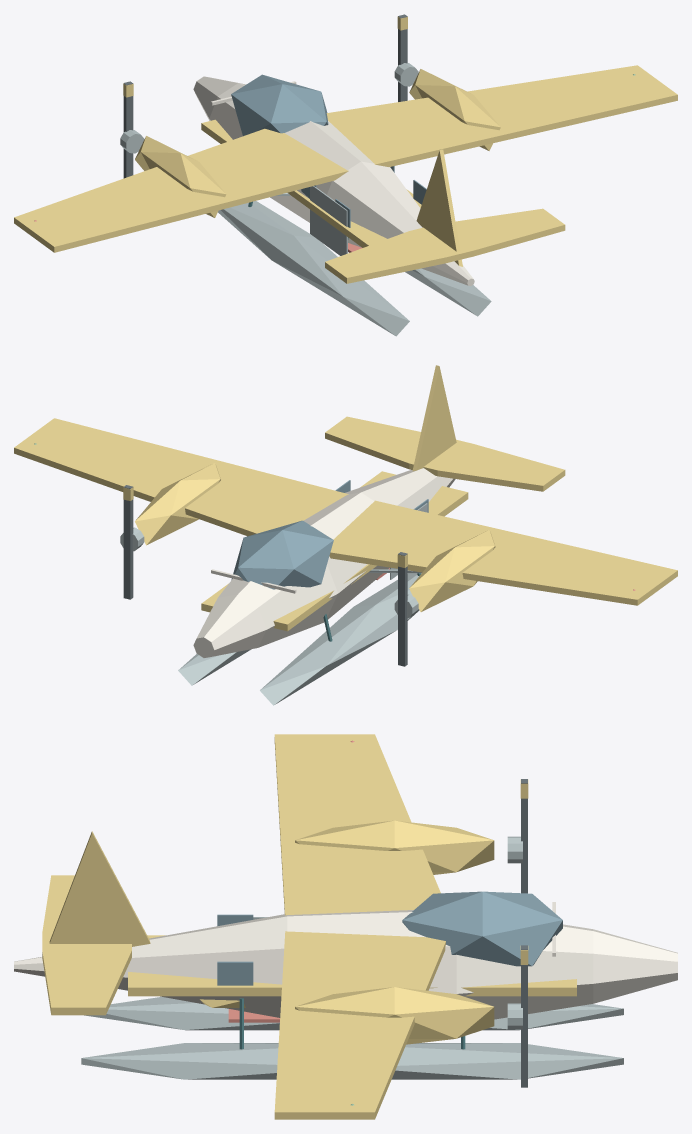
File: fire_waterbomber.glb
3 views of the same model, one above another, from view 1: azimuth 30°, elevation 25°; view 2: azimuth 150°, elevation 25°; view 3: azimuth 270°, elevation 25° (orthographic). The views are drawn at different scales.
Parts seen in each view (by area): view 1: fire_waterbomber__main_wings, fire_waterbomber__faceted_fuselage, fire_waterbomber__tailplane, fire_waterbomber__pontoon, fire_waterbomber__cockpit_canopy, fire_waterbomber__engine_nacelle, fire_waterbomber__engine_nacelle.001, fire_waterbomber__vertical_tail, fire_waterbomber__signature_stripe, fire_waterbomber__cargo_door, fire_waterbomber__pontoon.001, fire_waterbomber__Propeller_blades (+1 smaller); view 2: fire_waterbomber__main_wings, fire_waterbomber__faceted_fuselage, fire_waterbomber__tailplane, fire_waterbomber__pontoon, fire_waterbomber__cockpit_canopy, fire_waterbomber__engine_nacelle, fire_waterbomber__engine_nacelle.001, fire_waterbomber__vertical_tail, fire_waterbomber__signature_stripe, fire_waterbomber__Propeller_blades.001, fire_waterbomber__pontoon.001, fire_waterbomber__Propeller_blades; view 3: fire_waterbomber__main_wings, fire_waterbomber__faceted_fuselage, fire_waterbomber__pontoon.001, fire_waterbomber__cockpit_canopy, fire_waterbomber__tailplane, fire_waterbomber__engine_nacelle.001, fire_waterbomber__vertical_tail, fire_waterbomber__engine_nacelle, fire_waterbomber__pontoon, fire_waterbomber__signature_stripe, fire_waterbomber__cabin_window.001, fire_waterbomber__Propeller_blades.001 (+1 smaller).
Boxes of the visible parts, x1,y1,x2,y2 form: fire_waterbomber__main_wings: [14, 65, 677, 252]; fire_waterbomber__faceted_fuselage: [193, 76, 474, 285]; fire_waterbomber__tailplane: [325, 208, 565, 283]; fire_waterbomber__pontoon: [218, 201, 409, 336]; fire_waterbomber__cockpit_canopy: [231, 74, 328, 136]; fire_waterbomber__engine_nacelle: [135, 136, 226, 217]; fire_waterbomber__engine_nacelle.001: [409, 69, 500, 150]; fire_waterbomber__vertical_tail: [416, 149, 462, 266]; fire_waterbomber__signature_stripe: [201, 119, 421, 247]; fire_waterbomber__cargo_door: [310, 186, 347, 255]; fire_waterbomber__pontoon.001: [405, 268, 491, 316]; fire_waterbomber__Propeller_blades: [123, 81, 133, 178]; fire_waterbomber__main_wings: [14, 418, 677, 605]; fire_waterbomber__faceted_fuselage: [193, 468, 455, 657]; fire_waterbomber__tailplane: [325, 416, 565, 491]; fire_waterbomber__pontoon: [260, 573, 421, 705]; fire_waterbomber__cockpit_canopy: [231, 520, 333, 589]; fire_waterbomber__engine_nacelle: [409, 530, 495, 611]; fire_waterbomber__engine_nacelle.001: [135, 463, 220, 545]; fire_waterbomber__vertical_tail: [412, 365, 456, 471]; fire_waterbomber__signature_stripe: [201, 471, 468, 631]; fire_waterbomber__Propeller_blades.001: [123, 485, 133, 599]; fire_waterbomber__pontoon.001: [178, 649, 251, 685]; fire_waterbomber__Propeller_blades: [398, 552, 407, 666]; fire_waterbomber__main_wings: [274, 734, 445, 1119]; fire_waterbomber__faceted_fuselage: [14, 910, 677, 1019]; fire_waterbomber__pontoon.001: [81, 1043, 623, 1079]; fire_waterbomber__cockpit_canopy: [402, 891, 562, 966]; fire_waterbomber__tailplane: [42, 875, 131, 1015]; fire_waterbomber__engine_nacelle.001: [295, 987, 494, 1044]; fire_waterbomber__vertical_tail: [49, 831, 150, 946]; fire_waterbomber__engine_nacelle: [295, 820, 494, 874]; fire_waterbomber__pontoon: [84, 997, 623, 1030]; fire_waterbomber__signature_stripe: [128, 935, 576, 996]; fire_waterbomber__cabin_window.001: [217, 961, 253, 985]; fire_waterbomber__Propeller_blades.001: [521, 945, 527, 1087].
Size of the model in its own units: 22 by 6.03 by 16.32.
